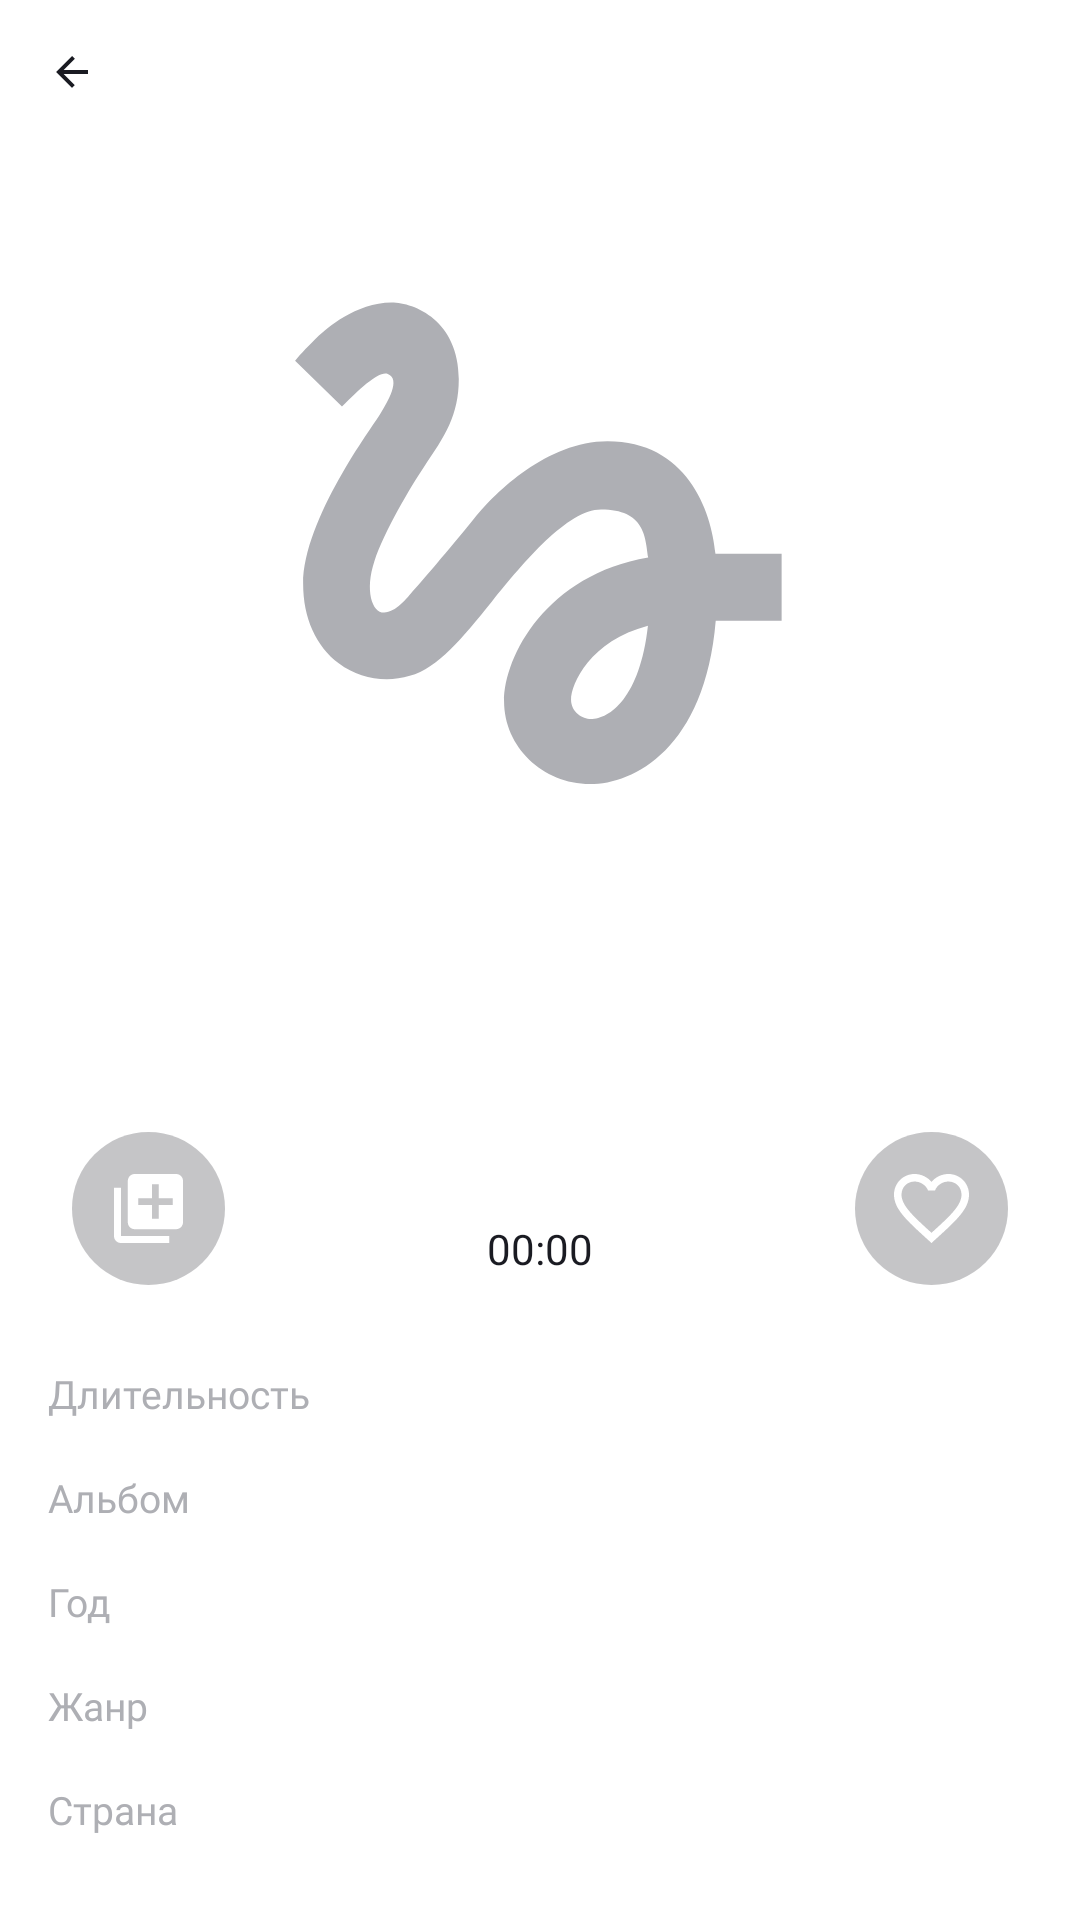

Where icons sit on this 1080w x 1920h app screen, as {"x1": x1, "y1": y1, "x2": x2, "y2": y2}:
add to playlist: {"x1": 72, "y1": 1132, "x2": 225, "y2": 1285}
back: {"x1": 56, "y1": 56, "x2": 88, "y2": 88}
like unfilled: {"x1": 855, "y1": 1132, "x2": 1008, "y2": 1285}
